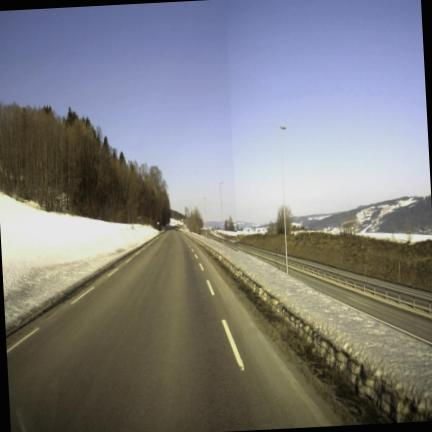Road: (6, 231, 339, 431)
